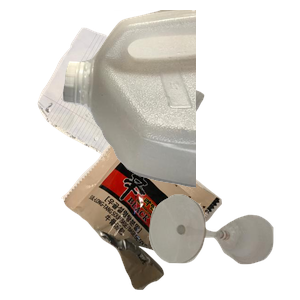glass: (147, 192, 300, 300)
paper: (35, 25, 232, 204)
plastic: (60, 10, 300, 190)
trash: (59, 124, 273, 300)
